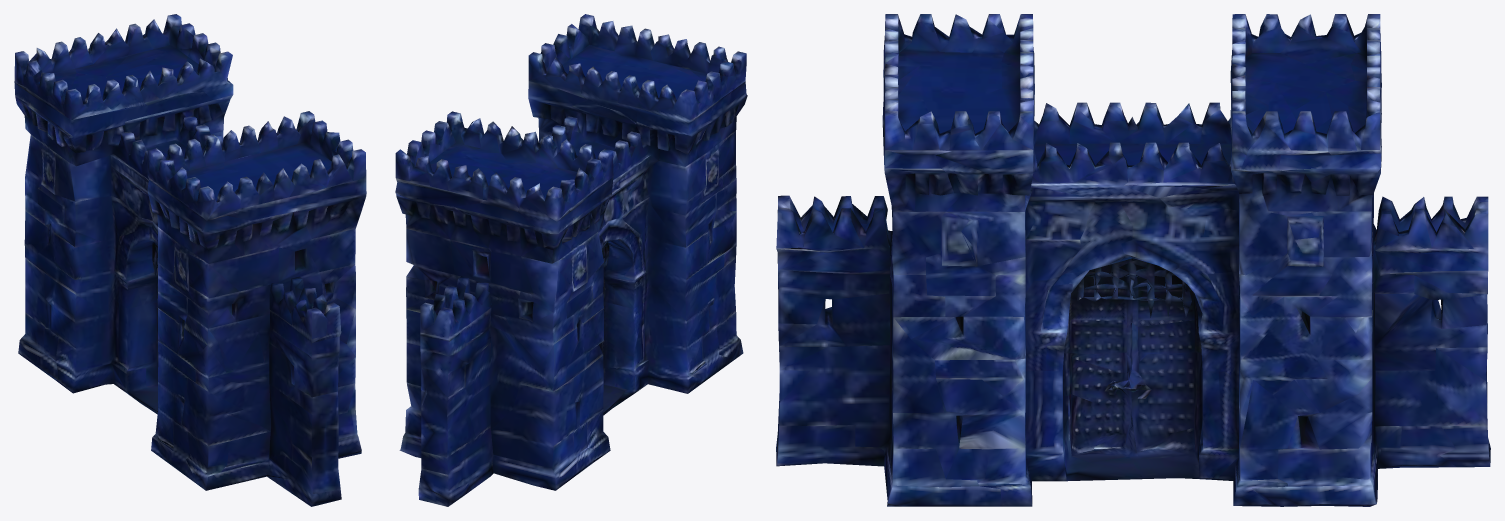
The model's file is castle_gate_diamond_blue.glb.
3 views of the same model, side by side, from view 1: azimuth 30°, elevation 25°; view 2: azimuth 150°, elevation 25°; view 3: azimuth 270°, elevation 25° (orthographic). The views are drawn at different scales.
Parts seen in each view (by area): view 1: tripo_node_0a6a371f-e985-4717-9263-0b98bedda75f; view 2: tripo_node_0a6a371f-e985-4717-9263-0b98bedda75f; view 3: tripo_node_0a6a371f-e985-4717-9263-0b98bedda75f.
Boxes of the visible parts, x1,y1,x2,y2 form: tripo_node_0a6a371f-e985-4717-9263-0b98bedda75f: (14,14,366,506); tripo_node_0a6a371f-e985-4717-9263-0b98bedda75f: (395,14,747,506); tripo_node_0a6a371f-e985-4717-9263-0b98bedda75f: (776,14,1490,506).
Bounding box in the file's own units: 0.3373 × 0.5934 × 0.9777.
Materials: 1 (1 with a texture image).
